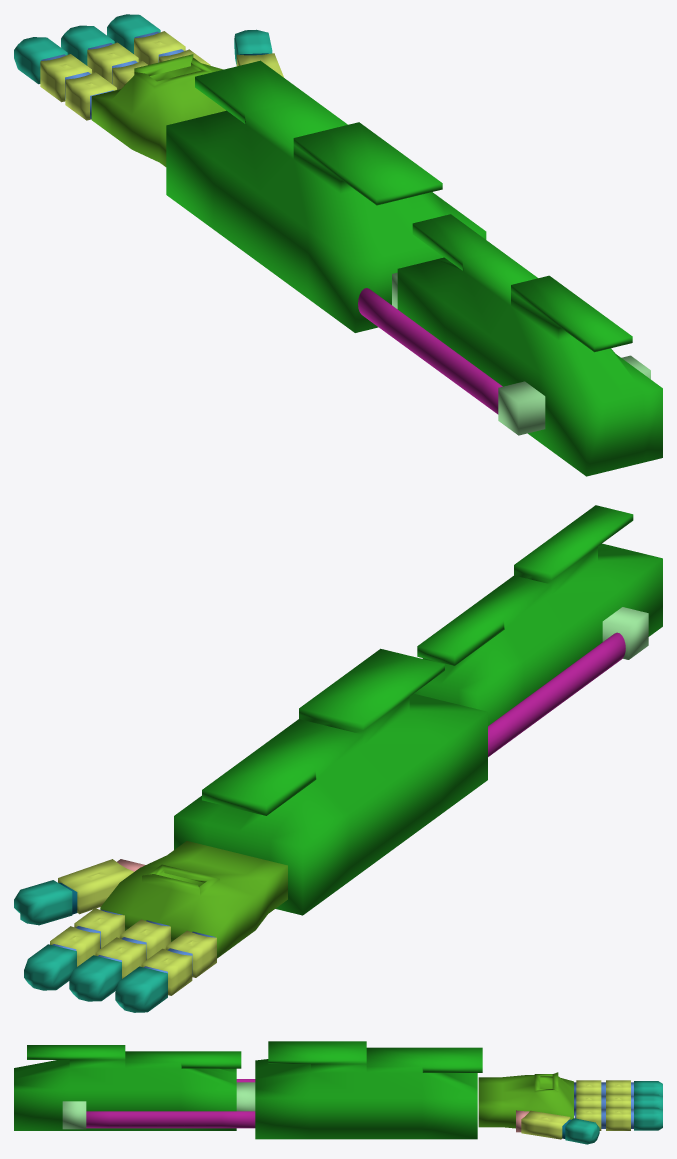
The model's file is left arm obj.obj.
3 views of the same model, one above another, from view 1: azimuth 30°, elevation 25°; view 2: azimuth 150°, elevation 25°; view 3: azimuth 270°, elevation 25° (orthographic). The views are drawn at different scales.
Parts seen in each view (by area): view 1: Box022, Box024, Box003, Cylinder001, Box025, Box007, Box008, Box009, Box014, Box013, Box016, Box012 (+1 smaller); view 2: Box022, Box024, Box003, Cylinder001, Box020, Box019, Box007, Box014, Box013, Box025, Box008, Box009 (+4 smaller); view 3: Box022, Box024, Box003, Cylinder002, Box020, Box019, Box025, Box013, Box012, Box023, Box007, Box014 (+6 smaller).
Part boxes in pixels (x1=…): Box022: x1=166, y1=60, x2=486, y2=332; Box024: x1=397, y1=214, x2=662, y2=476; Box003: x1=91, y1=54, x2=226, y2=166; Cylinder001: x1=358, y1=288, x2=502, y2=414; Box025: x1=498, y1=355, x2=650, y2=435; Box007: x1=14, y1=37, x2=67, y2=84; Box008: x1=40, y1=54, x2=91, y2=102; Box009: x1=65, y1=72, x2=116, y2=120; Box014: x1=61, y1=25, x2=114, y2=65; Box013: x1=107, y1=14, x2=160, y2=53; Box016: x1=87, y1=42, x2=138, y2=83; Box012: x1=134, y1=31, x2=185, y2=64; Box022: x1=174, y1=648, x2=487, y2=915; Box024: x1=414, y1=505, x2=662, y2=725; Box003: x1=100, y1=841, x2=287, y2=958; Cylinder001: x1=488, y1=632, x2=625, y2=756; Box020: x1=58, y1=859, x2=133, y2=914; Box019: x1=14, y1=880, x2=72, y2=925; Box007: x1=115, y1=966, x2=167, y2=1012; Box014: x1=69, y1=955, x2=121, y2=1001; Box013: x1=24, y1=944, x2=76, y2=990; Box025: x1=602, y1=607, x2=648, y2=659; Box008: x1=141, y1=948, x2=192, y2=995; Box009: x1=166, y1=930, x2=216, y2=977; Box022: x1=255, y1=1041, x2=482, y2=1139; Box024: x1=14, y1=1045, x2=241, y2=1130; Box003: x1=478, y1=1072, x2=573, y2=1128; Cylinder002: x1=86, y1=1111, x2=255, y2=1128; Box020: x1=521, y1=1110, x2=570, y2=1139; Box019: x1=565, y1=1118, x2=599, y2=1144; Box025: x1=62, y1=1101, x2=86, y2=1129; Box013: x1=634, y1=1107, x2=662, y2=1130; Box012: x1=606, y1=1107, x2=630, y2=1130; Box023: x1=236, y1=1082, x2=255, y2=1111; Box007: x1=634, y1=1081, x2=662, y2=1096; Box014: x1=634, y1=1094, x2=662, y2=1110.
Size of the model in its own units: 31.67 by 18.01 by 152.
